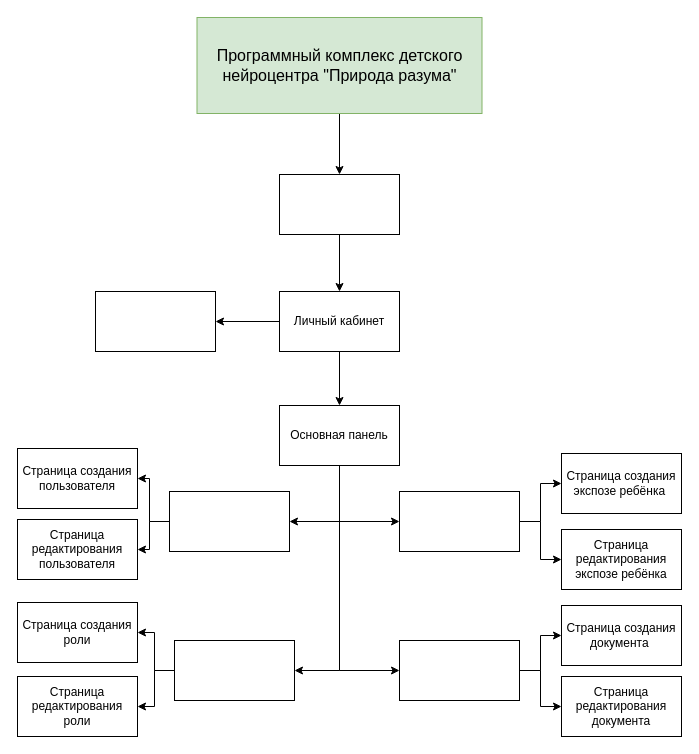
Image size: 699x754. Some labels were removed from this diagram. Here are the shapes that lost their labels. From the top down, the centre of each, then its label:
At pixel 339 204: "Страница авторизации".
At pixel 155 321: "Страница просмотра общей статистики".
At pixel 229 521: "Страница просмотра пользователей".
At pixel 459 521: "Страница просмотра данных детей".
At pixel 234 670: "Страница просмотра ролей".
At pixel 459 670: "Страница просмотра документов".
